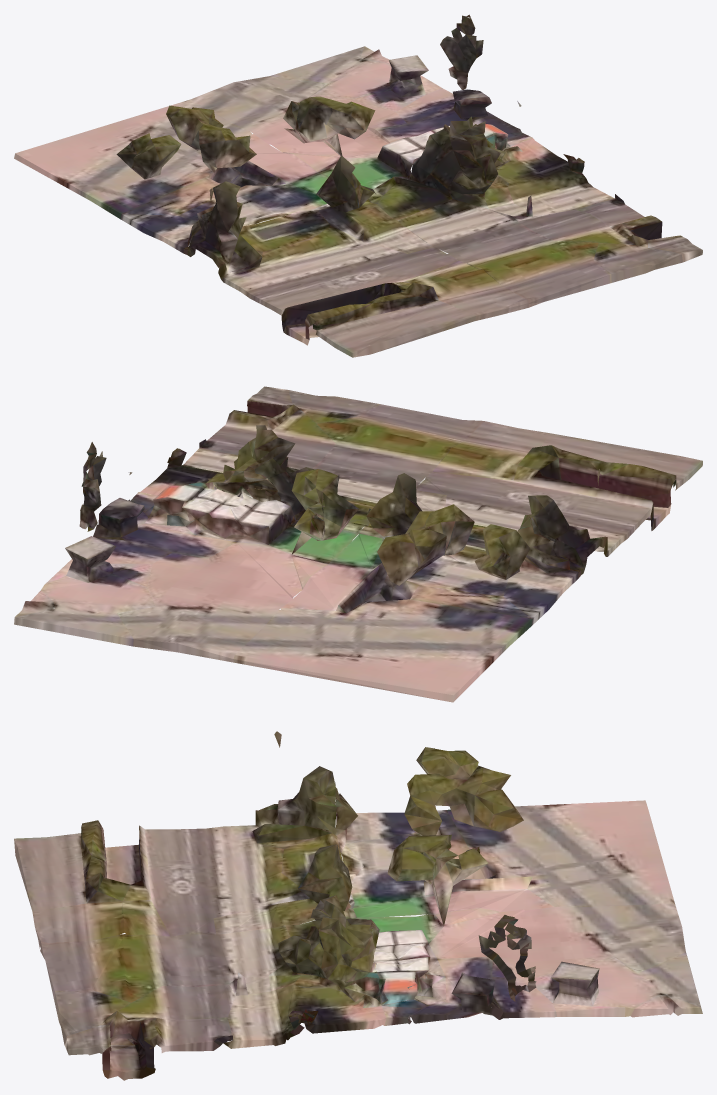
The picture shows the model from 3 angles, top to bottom: view 1: azimuth 30°, elevation 25°; view 2: azimuth 150°, elevation 25°; view 3: azimuth 270°, elevation 25°; orthographic projection. The views are drawn at different scales.
Visible parts, largest first — view 1: Mesh_0; view 2: Mesh_0; view 3: Mesh_0.
Part boxes in pixels (box(x1,y1,x2,y2)): Mesh_0: box(14, 14, 702, 357); Mesh_0: box(14, 386, 702, 702); Mesh_0: box(14, 731, 702, 1080).
Bounding box in the file's own units: 66.55 × 19.52 × 82.42.
1 material, 1 textured.
